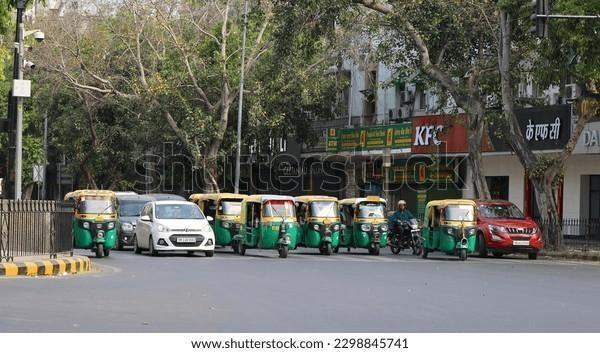keke: (62, 188, 118, 258), (240, 195, 298, 260), (428, 199, 480, 262), (337, 196, 385, 256), (298, 195, 342, 255)
